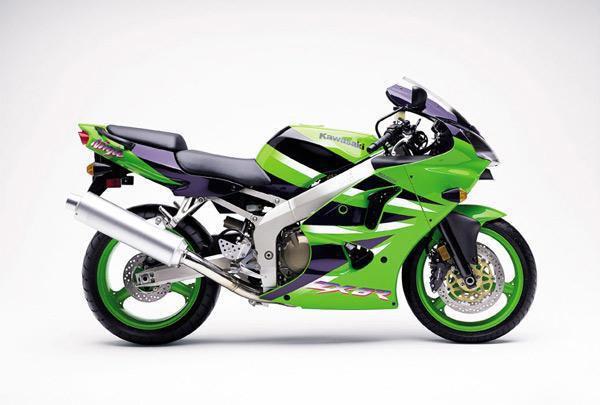motorcycle: (56, 70, 549, 358)
